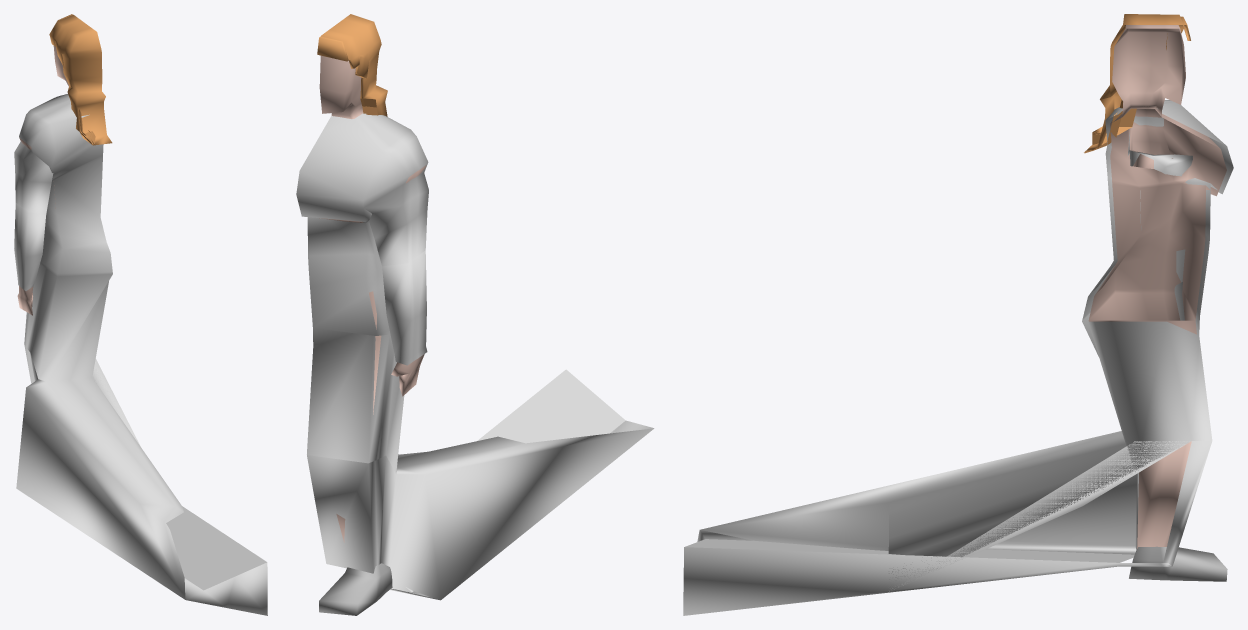
The model's file is bride.glb.
3 views of the same model, side by side, from view 1: azimuth 30°, elevation 25°; view 2: azimuth 150°, elevation 25°; view 3: azimuth 270°, elevation 25° (orthographic). The views are drawn at different scales.
Parts seen in each view (by area): view 1: dress, hair, original model; view 2: dress, original model, hair, shoes; view 3: dress, original model, shoes, hair.
Part boxes in pixels (box(x1,y1,x2,y2)): dress: box(14, 94, 267, 615); hair: box(49, 14, 112, 145); original model: box(17, 46, 68, 315); dress: box(296, 113, 654, 600); original model: box(319, 55, 426, 542); hair: box(317, 14, 387, 116); shoes: box(319, 563, 392, 615); dress: box(683, 100, 1233, 615); original model: box(1088, 25, 1226, 548); shoes: box(1129, 546, 1227, 581); hair: box(1084, 14, 1190, 153).
Bounding box in the file's own units: 1.76 × 10.16 × 8.57.
